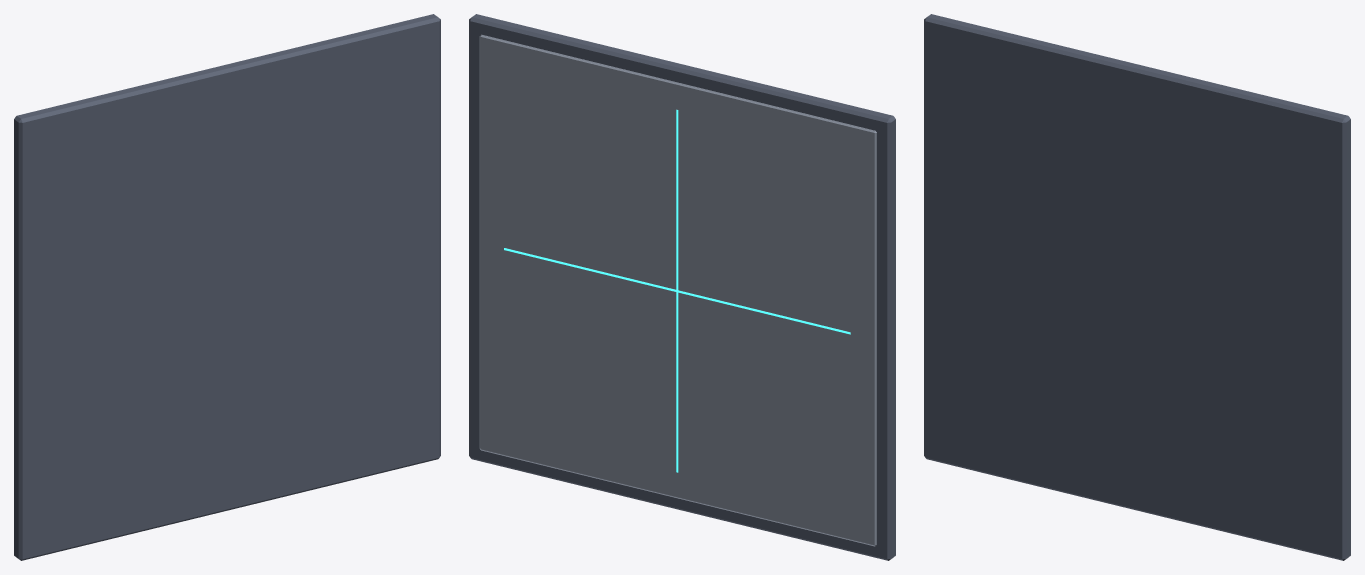
The model's file is platform_arena_large.glb.
3 renders of one model, left to right at view 1: azimuth 30°, elevation 25°; view 2: azimuth 150°, elevation 25°; view 3: azimuth 330°, elevation 25°, orthographic.
Visible parts, largest first — view 1: platform_arena_large; view 2: platform_arena_large; view 3: platform_arena_large.
Part boxes in pixels (x1,y1,x2,y2): platform_arena_large: (14,14,440,560); platform_arena_large: (469,14,895,560); platform_arena_large: (924,14,1350,560).
Bounding box in the file's own units: 11 × 11 × 0.406.
